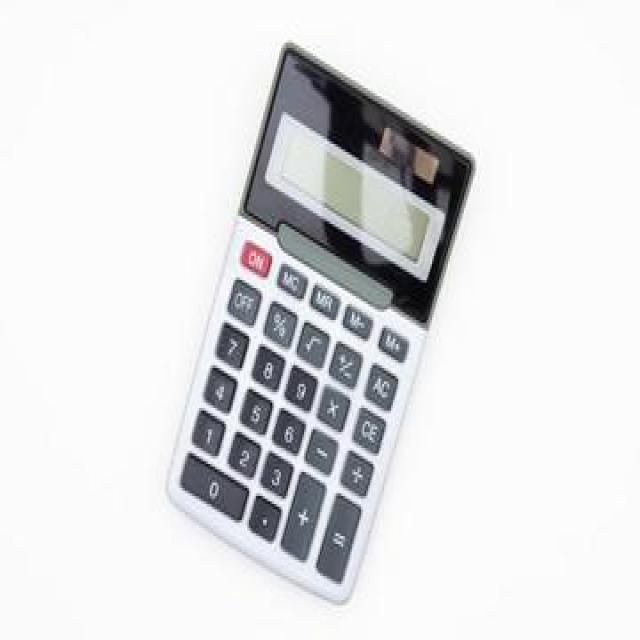Calculator: (165, 21, 471, 632)
